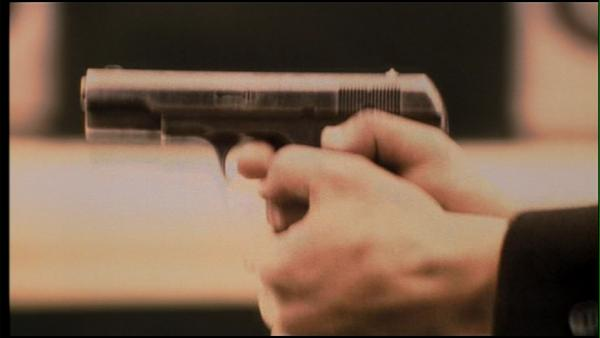Gun: (81, 69, 450, 146)
